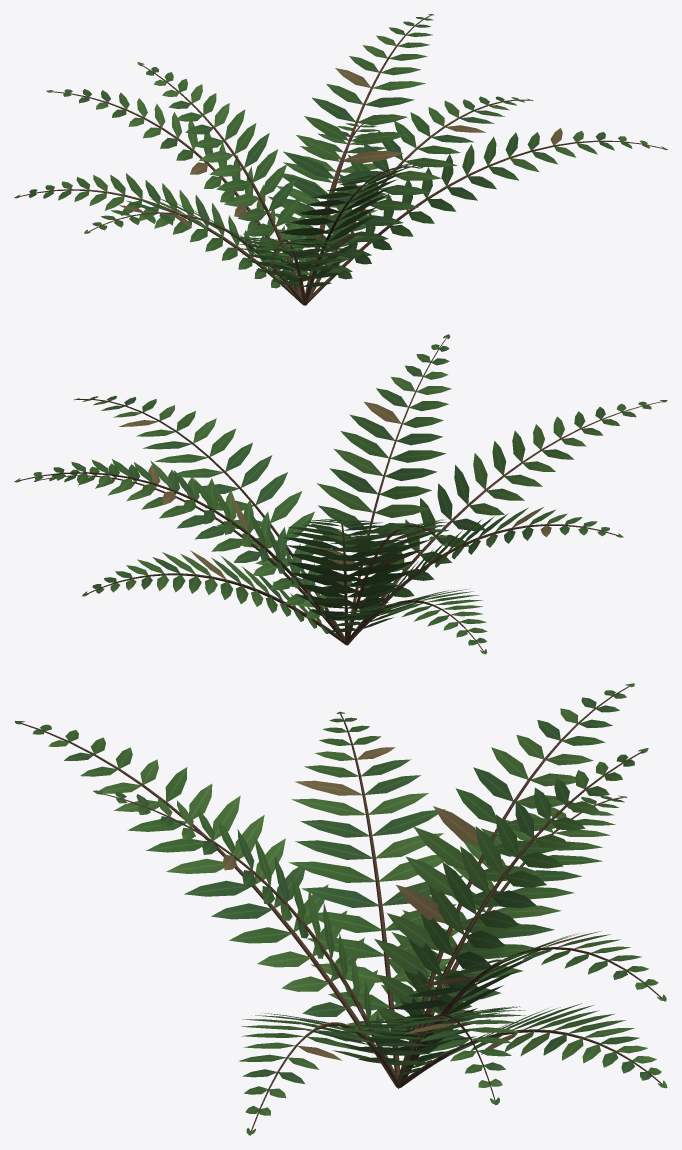
File: ground_fern.glb
3 views of the same model, one above another, from view 1: azimuth 30°, elevation 25°; view 2: azimuth 150°, elevation 25°; view 3: azimuth 270°, elevation 25° (orthographic). The views are drawn at different scales.
Visible parts, largest first — view 1: ground_fern; view 2: ground_fern; view 3: ground_fern.
Part boxes in pixels (left/top/right/bottom): ground_fern: left=14, top=14, right=667, bottom=305; ground_fern: left=14, top=334, right=667, bottom=654; ground_fern: left=14, top=683, right=667, bottom=1135.
Bounding box in the file's own units: 1.45 × 0.5358 × 1.04.
Materials: 2 (2 with a texture image).
